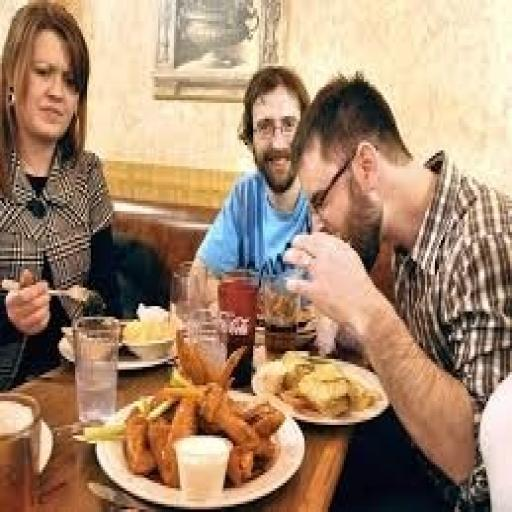eating: (283, 69, 510, 509), (0, 0, 119, 391)
